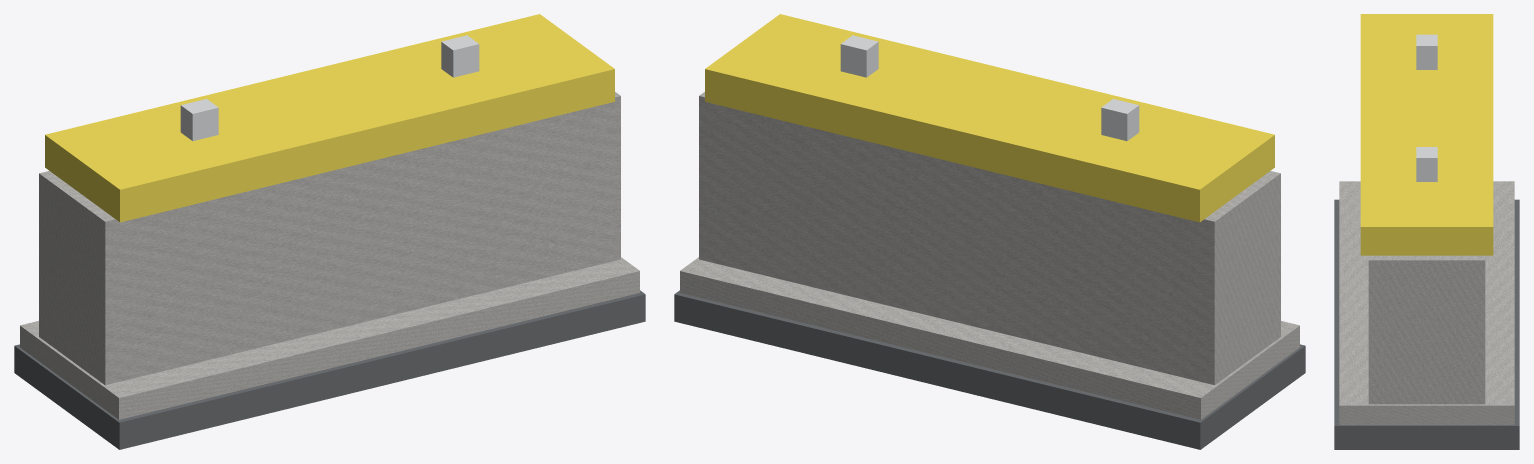
Rendered from recycling-and-waste-transfer-yard-recycling-and-waste--01d7531c__34898.glb.
The picture shows the model from 3 angles, left to right: view 1: azimuth 30°, elevation 25°; view 2: azimuth 150°, elevation 25°; view 3: azimuth 270°, elevation 25°; orthographic projection. The views are drawn at different scales.
Visible parts, largest first — view 1: recycling-and-waste-transfer-yard-tipping-bay-wall-block; view 2: recycling-and-waste-transfer-yard-tipping-bay-wall-block; view 3: recycling-and-waste-transfer-yard-tipping-bay-wall-block.
Part boxes in pixels (x1,y1,x2,y2): recycling-and-waste-transfer-yard-tipping-bay-wall-block: [14, 14, 645, 449]; recycling-and-waste-transfer-yard-tipping-bay-wall-block: [674, 14, 1305, 449]; recycling-and-waste-transfer-yard-tipping-bay-wall-block: [1334, 14, 1519, 449].
Size of the model in its own units: 2.02 by 1 by 0.6999.
Materials: 4 (1 with a texture image).
